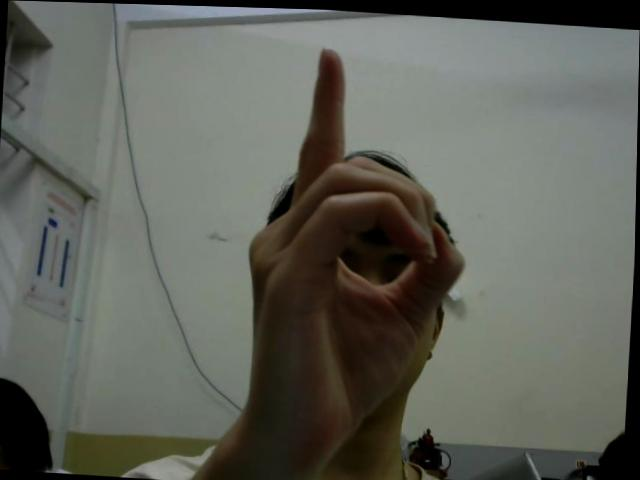D: (240, 41, 480, 434)
